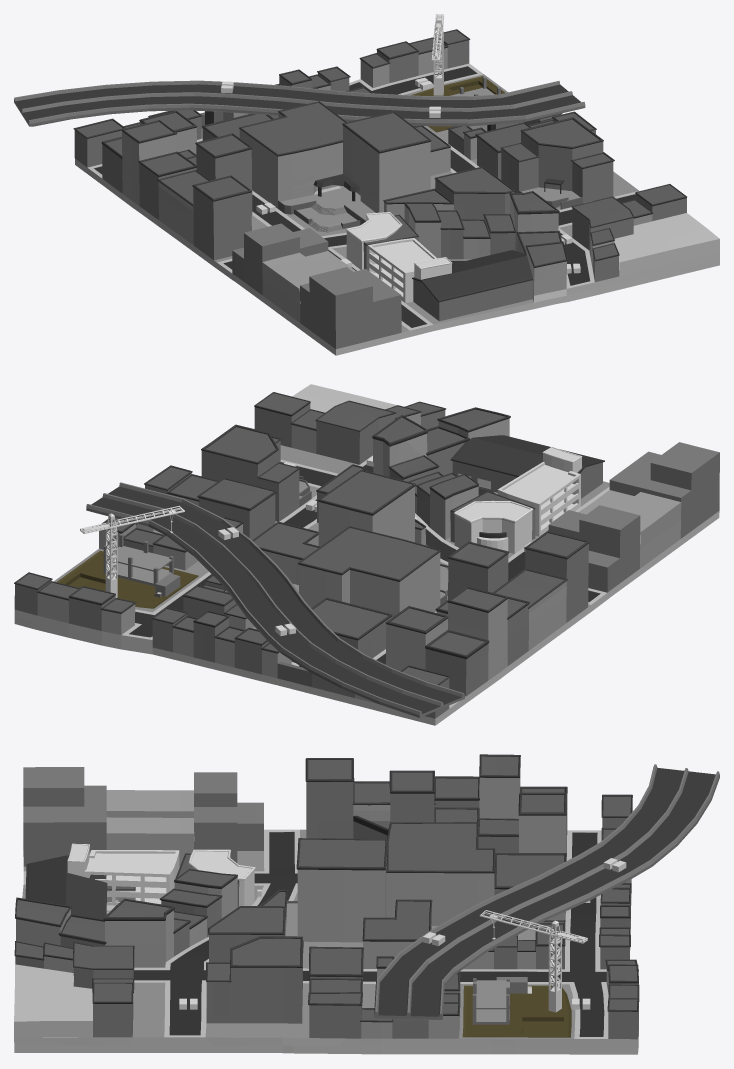
Rendered from City-Blockout.fbx.
3 views of the same model, one above another, from view 1: azimuth 30°, elevation 25°; view 2: azimuth 150°, elevation 25°; view 3: azimuth 270°, elevation 25° (orthographic). The views are drawn at different scales.
Visible parts, largest first — view 1: Overpass, Apartment Mega Structure, City Blockout, City Blockout.019, City Blockout.030, City Blockout.018, City Blockout.027, WarehouseExterior, City Blockout.023, City Blockout.031, City Blockout.007, City Blockout.034 (+16 smaller); view 2: Overpass, Apartment Mega Structure, City Blockout, City Blockout.030, City Blockout.019, City Blockout.033, City Blockout.029, City Blockout.027, City Blockout.018, City Blockout.025, City Blockout.034, City Blockout.031 (+16 smaller); view 3: City Blockout, Overpass, Apartment Mega Structure, City Blockout.019, City Blockout.030, City Blockout.018, City Blockout.027, City Blockout.026, City Blockout.017, City Blockout.025, City Blockout.001, City Blockout.031 (+16 smaller).
Boxes of the visible parts, box(x1,y1,x2,y2) form: Overpass: box(14, 80, 585, 131); Apartment Mega Structure: box(239, 101, 431, 212); City Blockout: box(75, 63, 719, 355); City Blockout.019: box(571, 184, 719, 282); City Blockout.030: box(157, 133, 252, 260); City Blockout.018: box(501, 117, 614, 203); City Blockout.027: box(300, 267, 401, 349); WarehouseExterior: box(412, 250, 532, 321); City Blockout.023: box(404, 202, 516, 259); City Blockout.031: box(121, 120, 196, 219); City Blockout.007: box(383, 166, 515, 219); City Blockout.034: box(359, 29, 470, 87); Overpass: box(86, 482, 464, 717); Apartment Mega Structure: box(297, 469, 440, 617); City Blockout: box(14, 445, 719, 725); City Blockout.030: box(447, 531, 589, 650); City Blockout.019: box(254, 384, 446, 464); City Blockout.033: box(151, 607, 450, 718); City Blockout.029: box(385, 606, 489, 696); City Blockout.027: box(609, 442, 719, 538); City Blockout.018: box(201, 424, 299, 521); City Blockout.025: box(548, 505, 640, 592); City Blockout.034: box(14, 572, 136, 634); City Blockout.031: box(447, 586, 529, 680); City Blockout: box(14, 829, 638, 1054); Overpass: box(374, 764, 719, 1019); Apartment Mega Structure: box(296, 822, 495, 942); City Blockout.019: box(14, 941, 134, 1037); City Blockout.030: box(305, 758, 435, 838); City Blockout.018: box(206, 936, 303, 1023); City Blockout.027: box(23, 767, 106, 866); City Blockout.026: box(106, 790, 194, 866); City Blockout.017: box(308, 946, 363, 1038); City Blockout.025: box(194, 772, 263, 862); City Blockout.001: box(67, 843, 179, 905); City Blockout.031: box(434, 754, 520, 818).
Size of the model in its own units: 37746 by 7393 by 45124.
